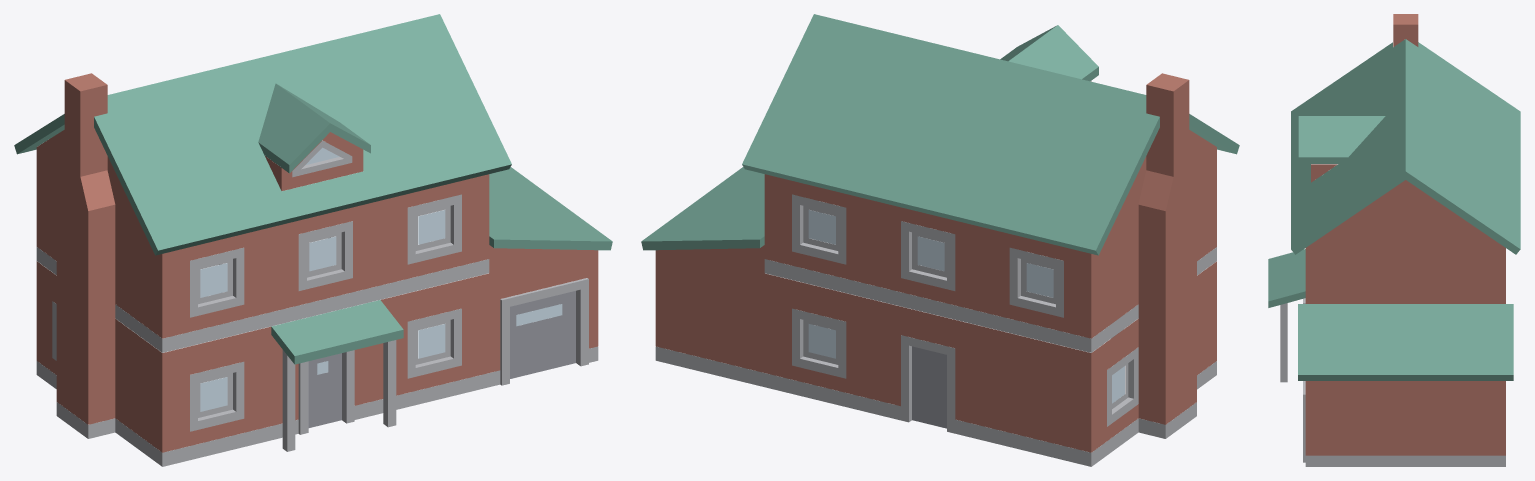
The model's file is house2.gltf.
3 renders of one model, left to right at view 1: azimuth 30°, elevation 25°; view 2: azimuth 150°, elevation 25°; view 3: azimuth 270°, elevation 25°, orthographic. The views are drawn at different scales.
Visible parts, largest first — view 1: house_type08; view 2: house_type08; view 3: house_type08.
Part boxes in pixels (x1,y1,x2,y2): house_type08: (14, 14, 612, 466); house_type08: (641, 14, 1239, 466); house_type08: (1268, 14, 1520, 466).
Size of the model in its own units: 1.74 by 1.2 by 1.01.
